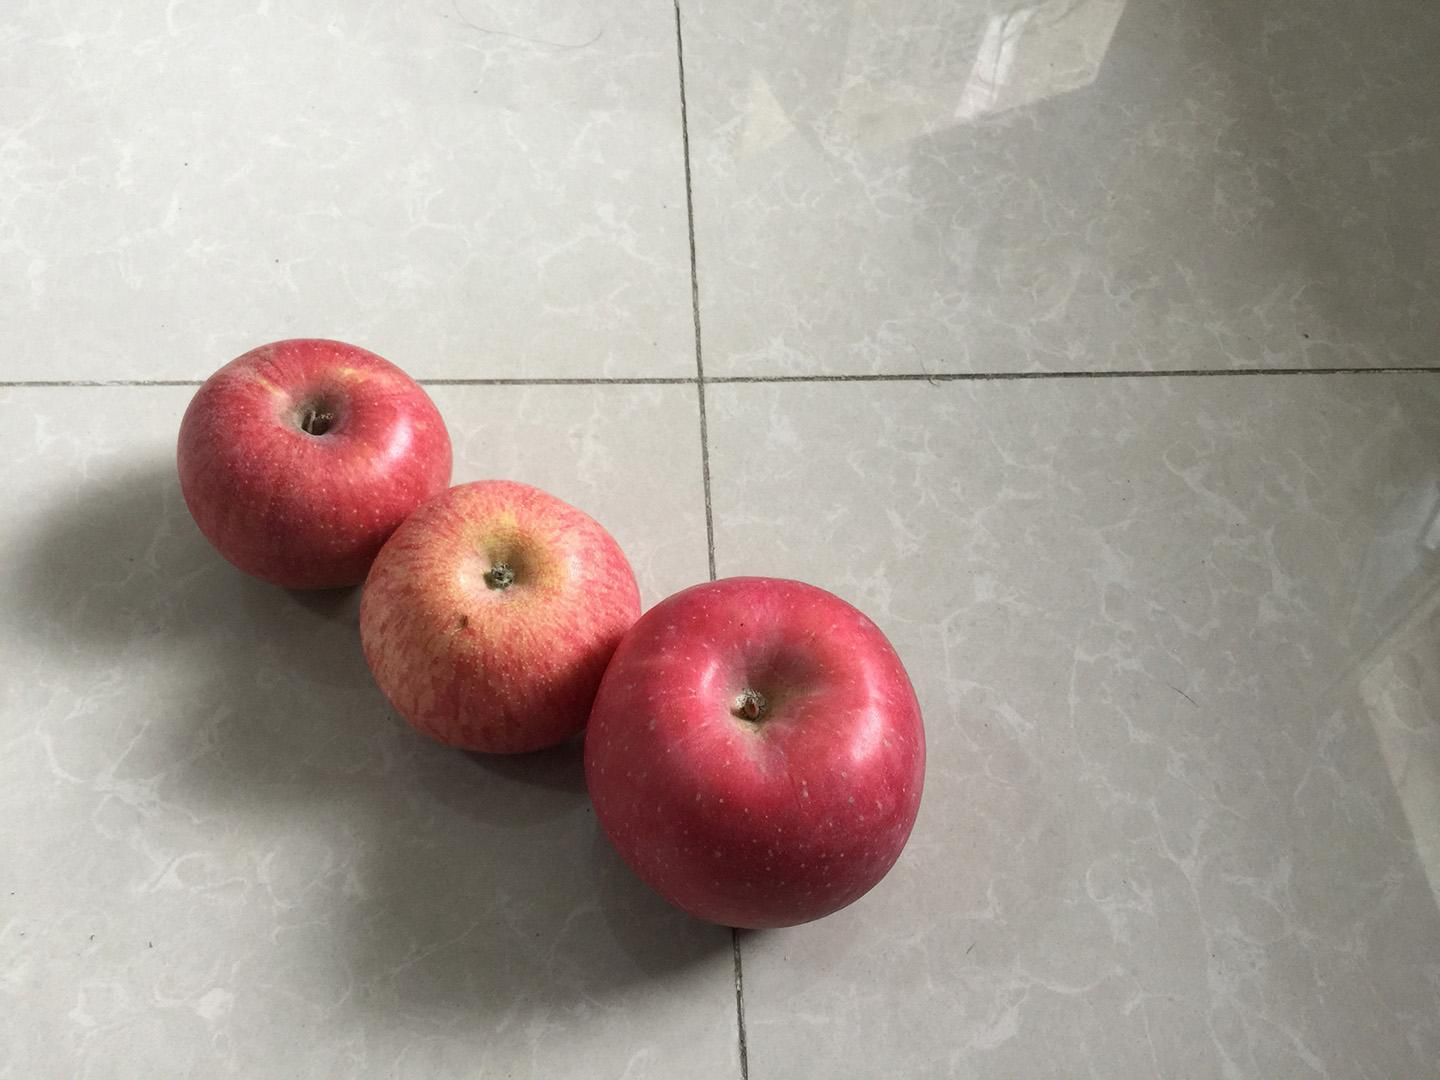apple: (573, 567, 937, 940), (349, 471, 654, 765), (168, 334, 464, 602)
